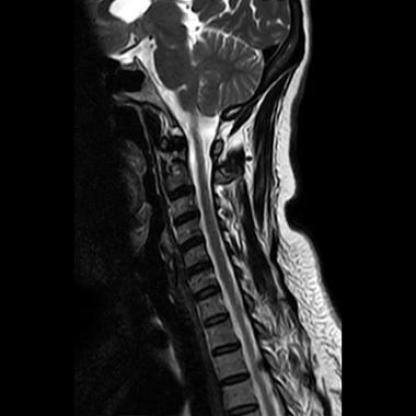Disc Bulgerotation: (183, 257, 213, 277)
